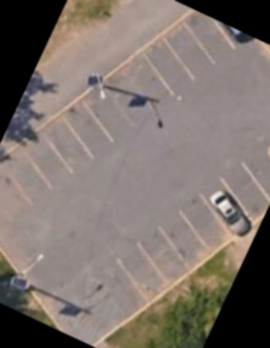parkingspot: (0, 8, 259, 238), (111, 139, 270, 309)
